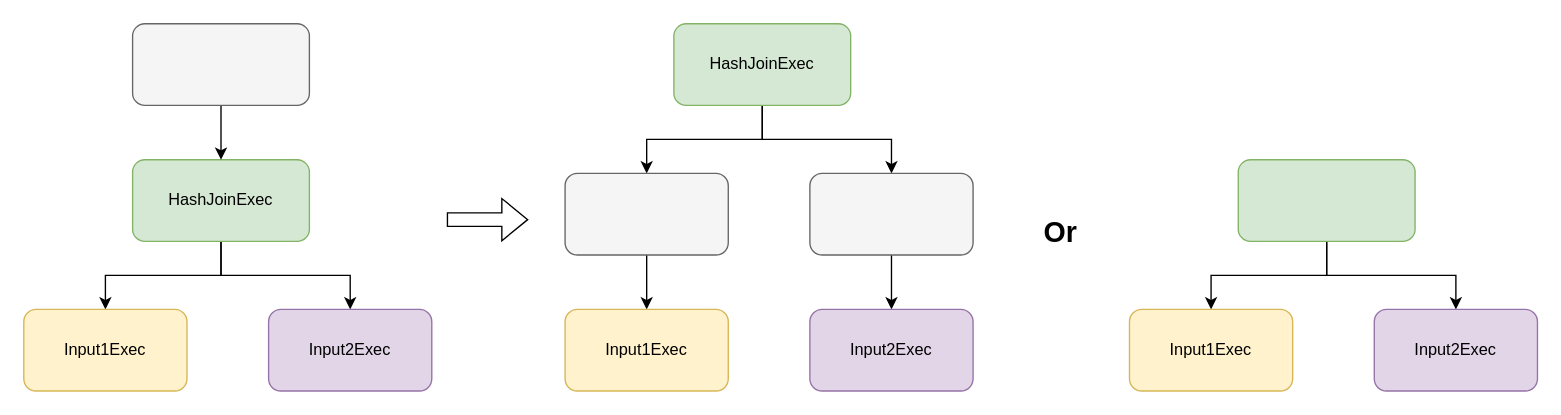
This 1561x415 diagram has some shape labels left out. Each missing label, with the centre of its shape:
HashJoinExec + projection: point (1326, 199)
Projection1Exec: point (646, 213)
Projection2Exec: point (891, 213)
ProjectionExec: point (220, 63)
